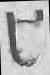N41: (3, 0, 47, 74)
